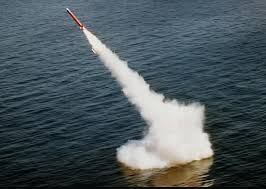ten_lua: (63, 5, 85, 30)
